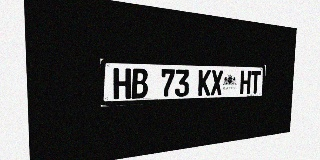3: (175, 69, 189, 97)
7: (160, 69, 175, 97)
B: (131, 68, 148, 99)
H: (113, 68, 131, 99), (240, 71, 251, 94)
K: (198, 70, 211, 96)
T: (250, 71, 261, 94)
X: (211, 70, 223, 95)
